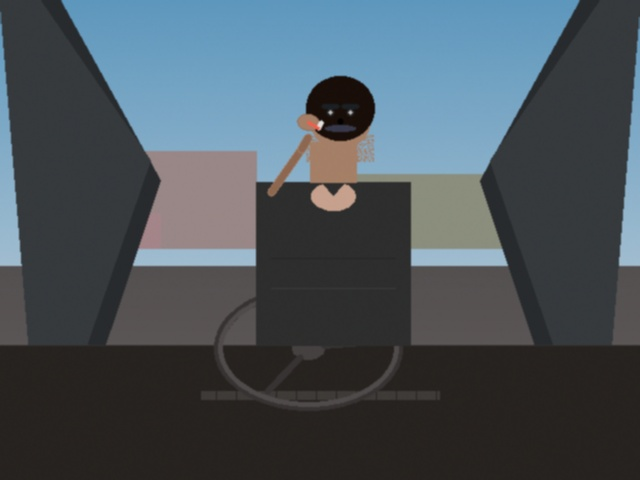smoking: (298, 107, 331, 137)
